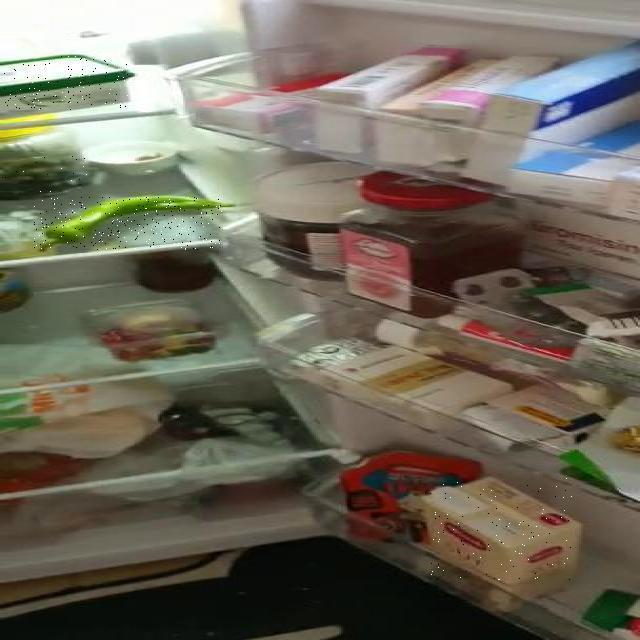cream: (4, 56, 128, 110)
green chilies: (34, 197, 222, 250)
milk: (430, 478, 573, 581)
olives: (2, 156, 89, 195)
